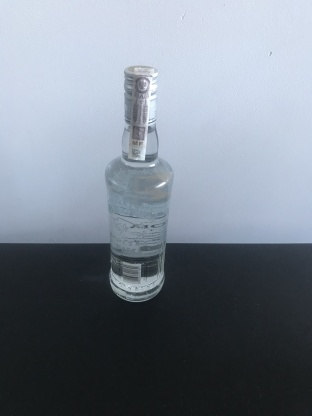nakretka: (121, 62, 159, 125)
